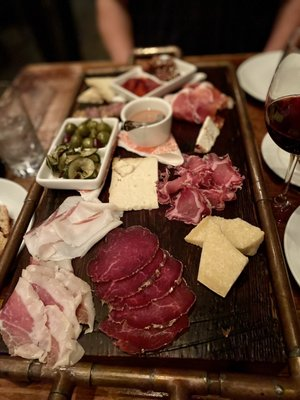sushi: (39, 116, 120, 194), (119, 97, 173, 149)
